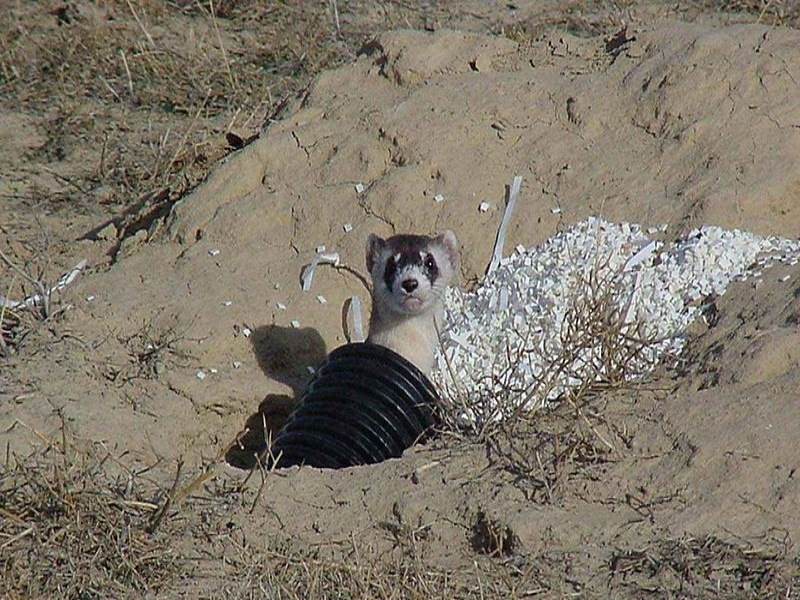minkish: (344, 226, 474, 398)
